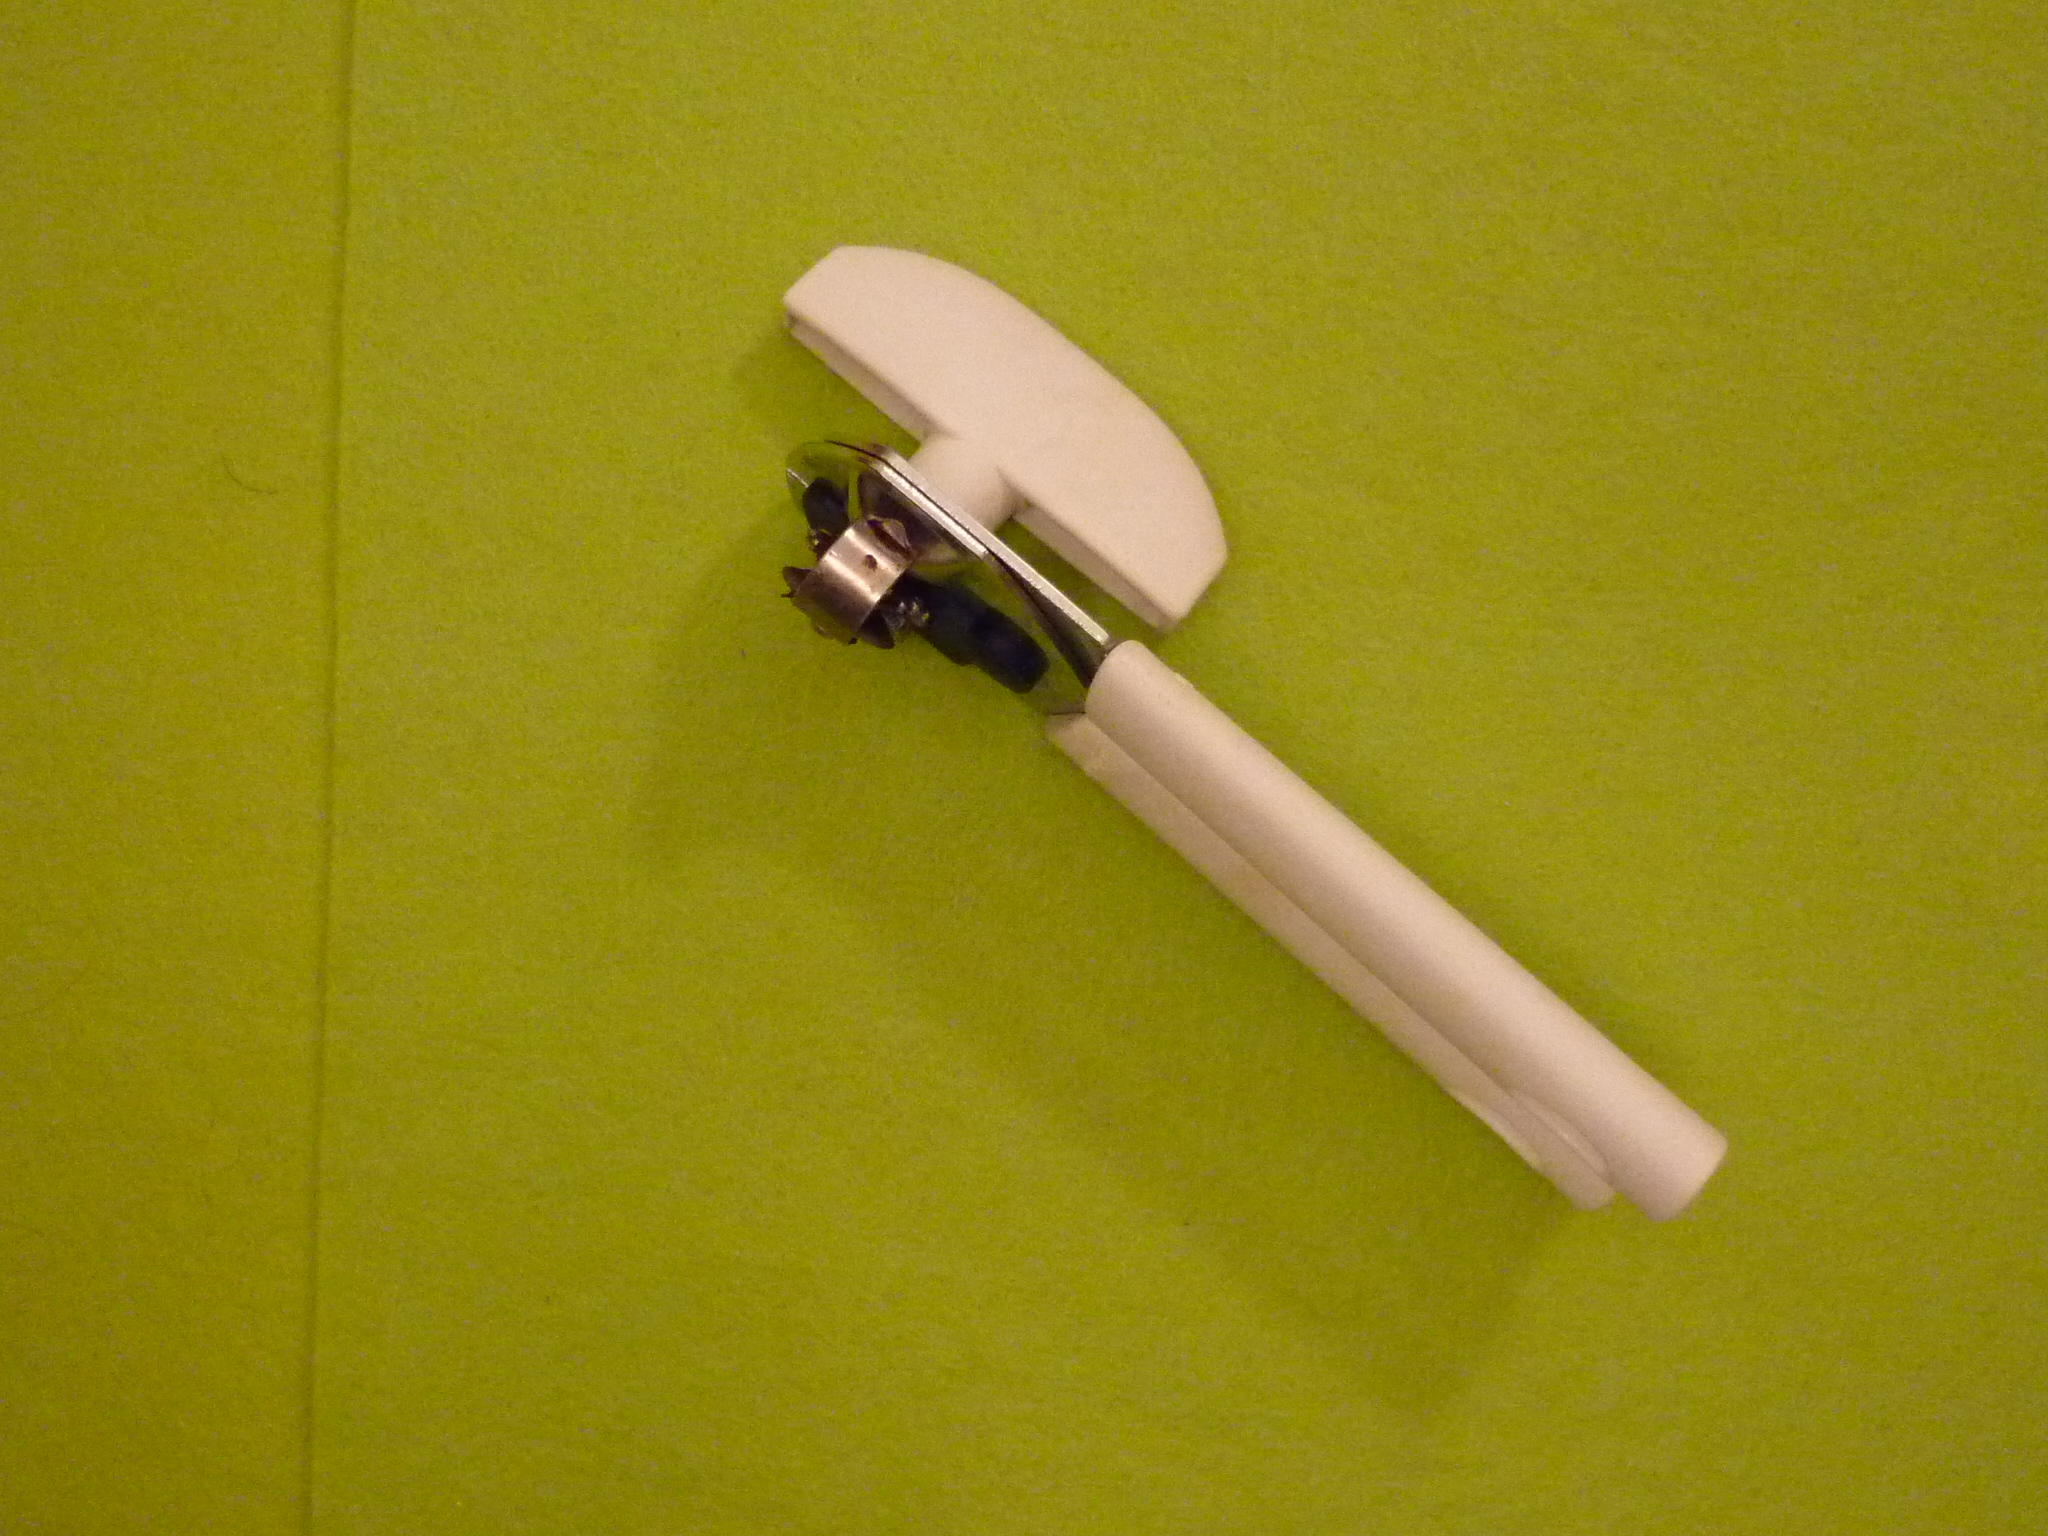bottleopener: (777, 240, 1737, 1225)
